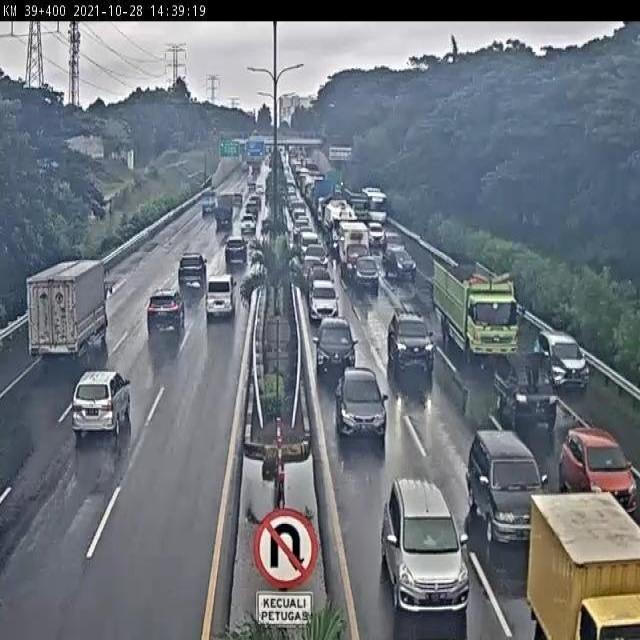Bus: (361, 186, 389, 222)
Car: (381, 478, 470, 614), (466, 431, 546, 545), (559, 426, 637, 518), (492, 350, 559, 432), (72, 368, 133, 439), (334, 366, 389, 444), (385, 309, 436, 387), (535, 327, 591, 394), (314, 316, 358, 380), (146, 289, 185, 337), (308, 280, 339, 323), (384, 245, 417, 283), (353, 254, 382, 294), (178, 252, 208, 290), (308, 265, 334, 295), (303, 243, 329, 270), (225, 238, 248, 266), (384, 232, 406, 258), (366, 221, 386, 247), (240, 214, 256, 236), (244, 201, 259, 218)
Truck: (527, 491, 640, 640), (431, 258, 527, 364), (25, 260, 113, 363), (337, 219, 371, 282), (325, 199, 356, 251), (341, 186, 370, 221), (313, 177, 335, 223), (214, 192, 234, 230), (200, 192, 217, 216)
Van: (205, 273, 236, 319)
